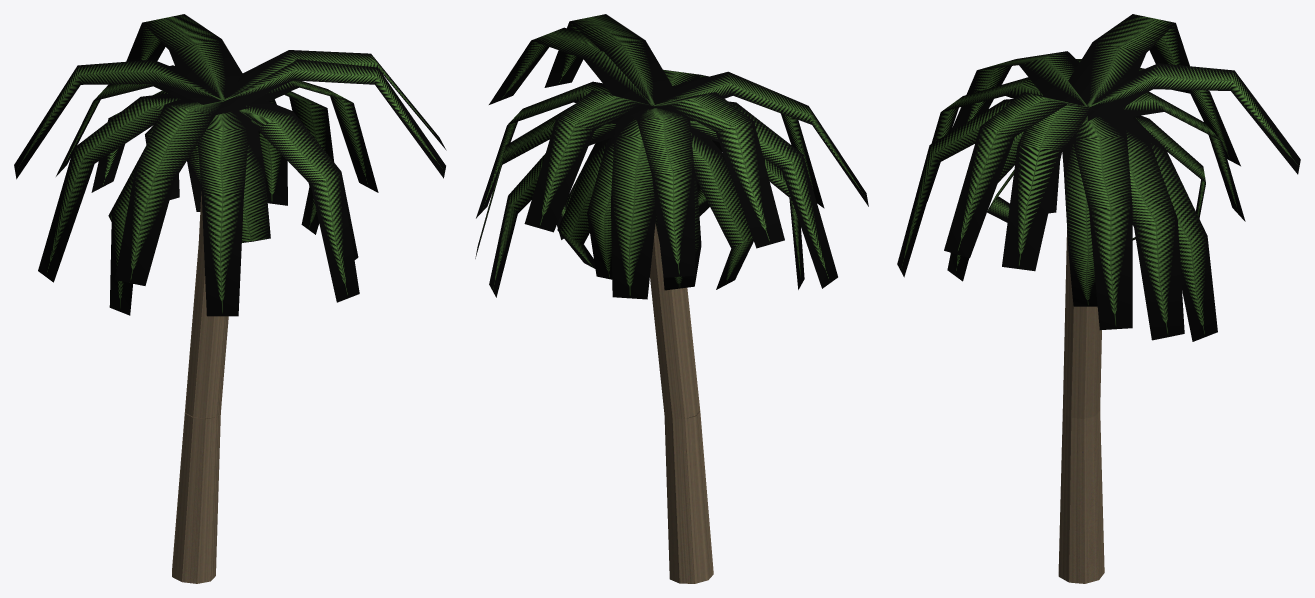
Rendered from CITY_Tree_Palmera.fbx.
The picture shows the model from 3 angles, left to right: view 1: azimuth 30°, elevation 25°; view 2: azimuth 150°, elevation 25°; view 3: azimuth 270°, elevation 25°; orthographic projection. The views are drawn at different scales.
Parts seen in each view (by area): view 1: CITY_Tree_Palmera; view 2: CITY_Tree_Palmera; view 3: CITY_Tree_Palmera.
Boxes of the visible parts, x1=… form: CITY_Tree_Palmera: x1=14, y1=14, x2=446, y2=583; CITY_Tree_Palmera: x1=475, y1=14, x2=868, y2=583; CITY_Tree_Palmera: x1=897, y1=14, x2=1300, y2=583.
Size of the model in its own units: 5.98 by 7.74 by 5.45.
